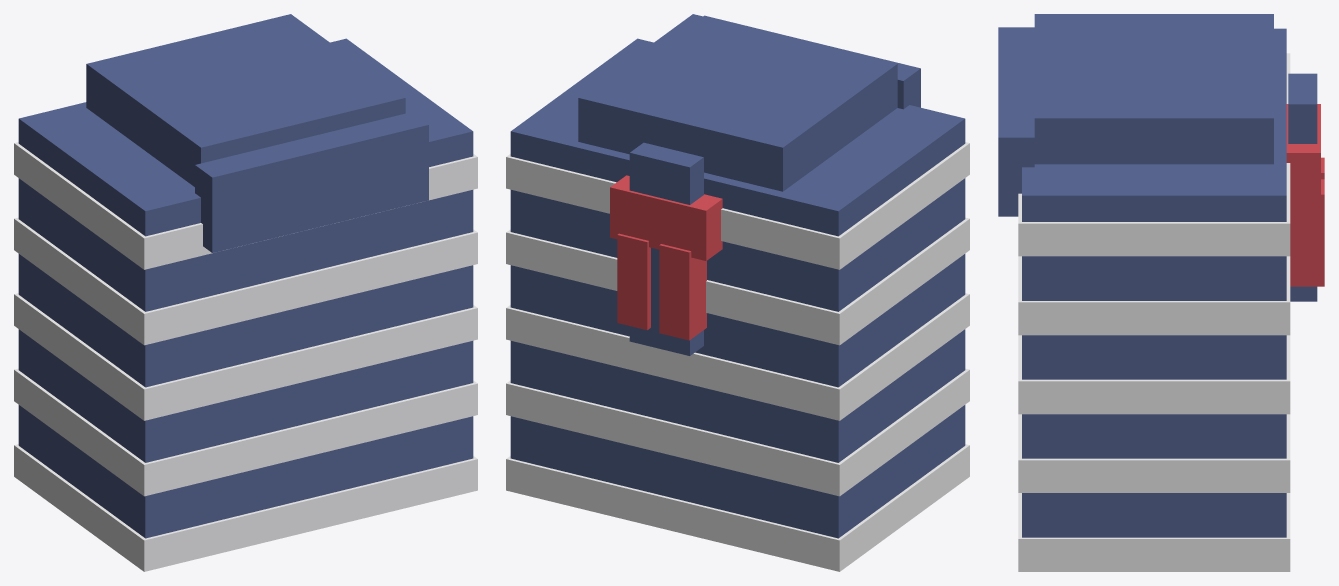
File: marinheiro_listrado_tronco.glb
3 views of the same model, side by side, from view 1: azimuth 30°, elevation 25°; view 2: azimuth 150°, elevation 25°; view 3: azimuth 270°, elevation 25° (orthographic). The views are drawn at different scales.
Parts seen in each view (by area): view 1: marinheiro_listrado_tronco; view 2: marinheiro_listrado_tronco; view 3: marinheiro_listrado_tronco.
Boxes of the visible parts, x1,y1,x2,y2 form: marinheiro_listrado_tronco: [14, 14, 477, 571]; marinheiro_listrado_tronco: [506, 14, 969, 571]; marinheiro_listrado_tronco: [998, 14, 1324, 571].
Bounding box in the file's own units: 0.555 × 0.64 × 0.45.
